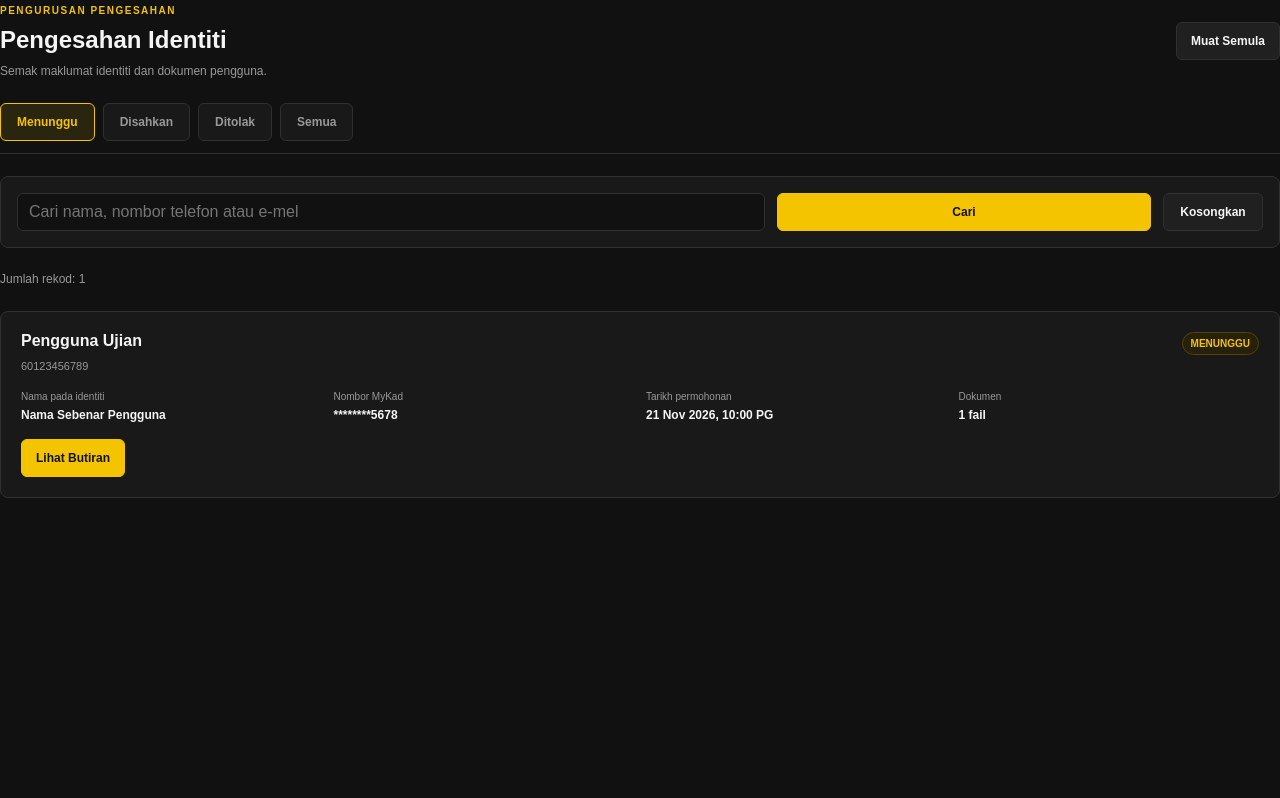
IdentityVerificationsPage › menghantar keputusan VERIFIED kepada API
Expected: the heading "Pengguna Ujian" is shown, [21,332,142,350]
Click the button "Lihat Butiran". click: (73, 458)
box: [21,439,125,477]
(page scrolled)
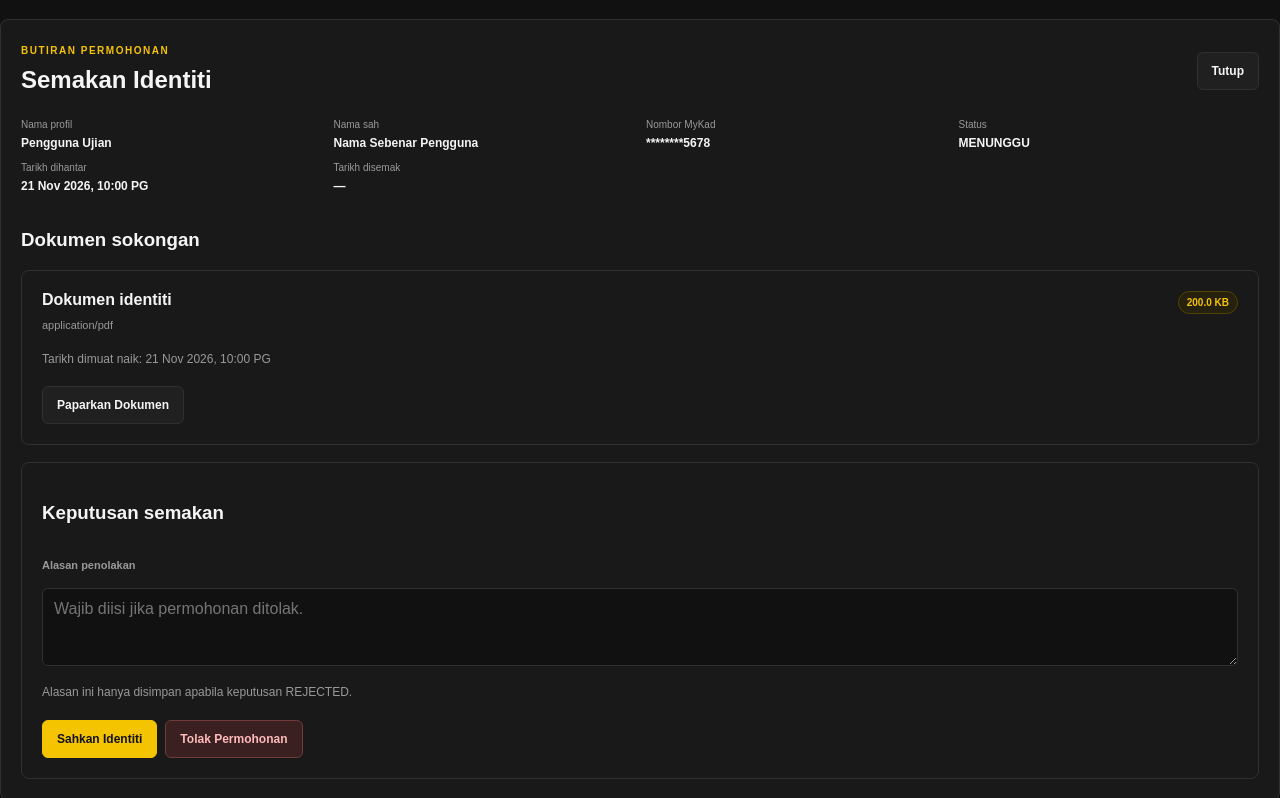
Result: the heading "Dokumen sokongan" is shown at [21,229,200,250]
Click the button "Sahkan Identiti". click: (100, 739)
box: [42,720,157,758]
(page scrolled)
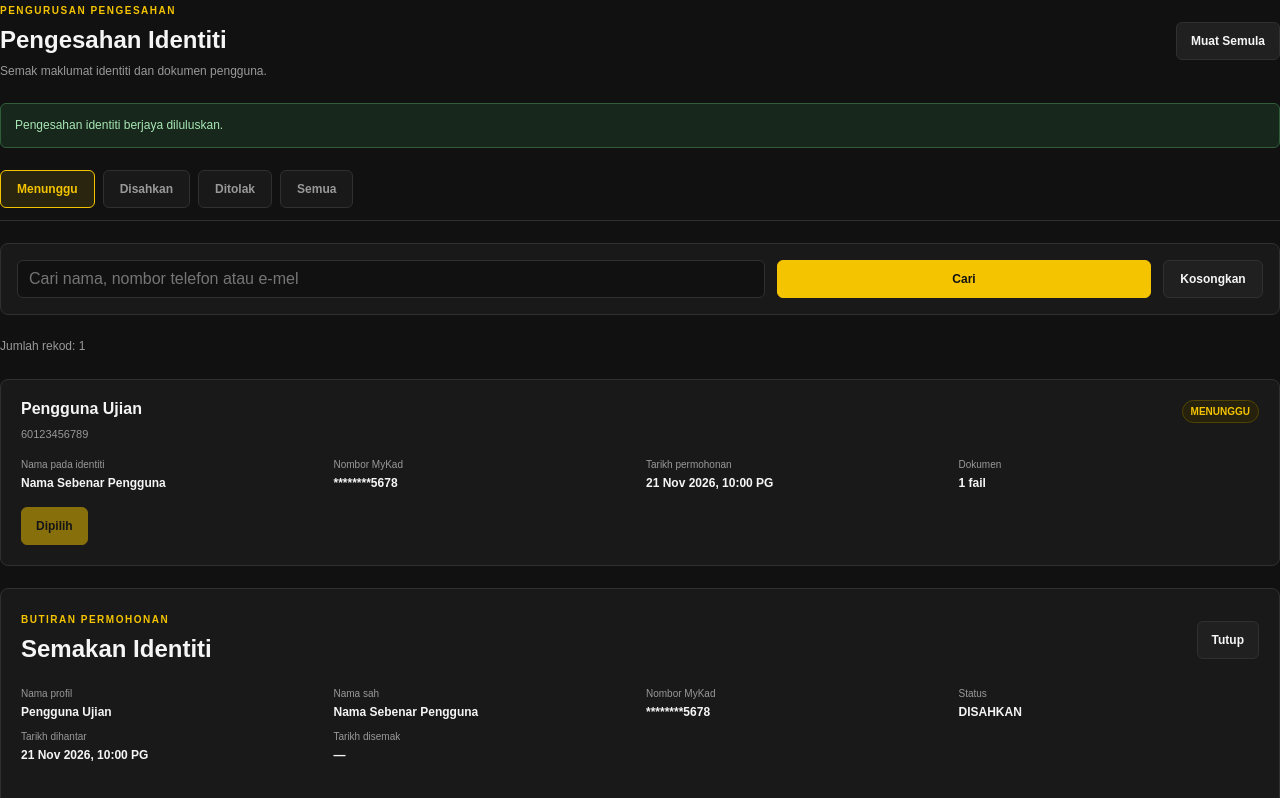
Result: the text "Pengesahan identiti berjaya diluluskan." is shown at [0,103,1279,148]
